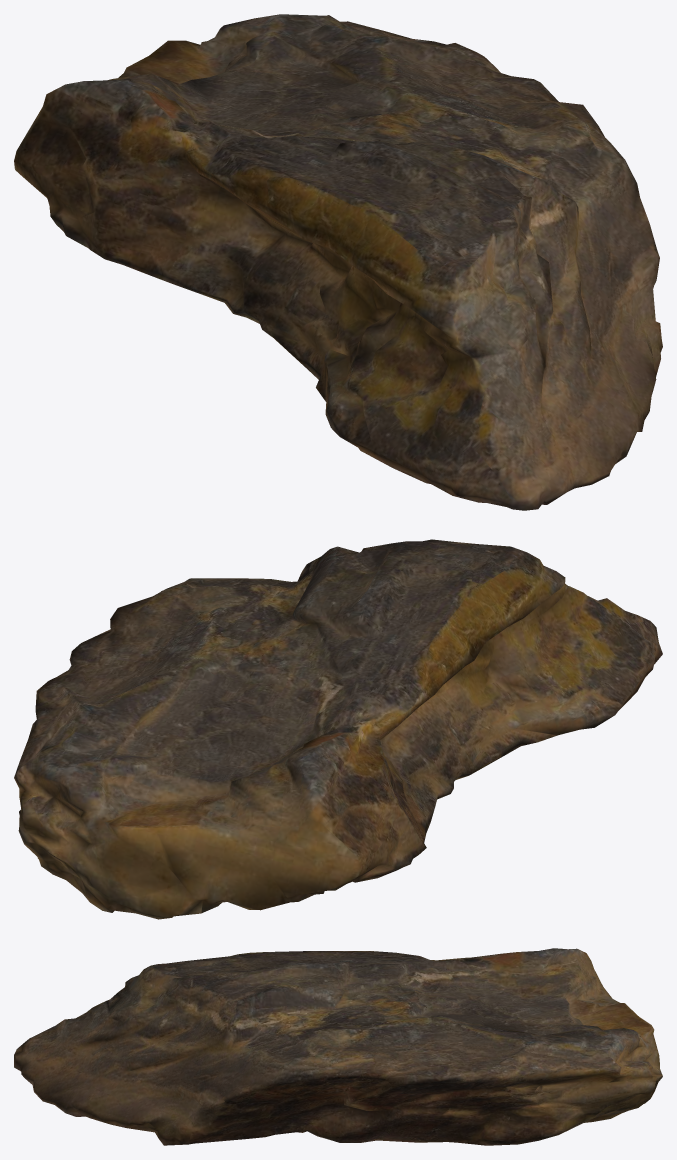
File: rock_09.glb
3 renders of one model, top to bottom at view 1: azimuth 30°, elevation 25°; view 2: azimuth 150°, elevation 25°; view 3: azimuth 270°, elevation 25°, orthographic. The views are drawn at different scales.
Visible parts, largest first — view 1: rock_09_LOD0; view 2: rock_09_LOD0; view 3: rock_09_LOD0.
Part boxes in pixels (left/top/right/bottom): rock_09_LOD0: left=14, top=14, right=662, bottom=510; rock_09_LOD0: left=14, top=539, right=662, bottom=919; rock_09_LOD0: left=14, top=948, right=662, bottom=1145.
Bounding box in the file's own units: 0.0739 × 0.0328 × 0.1446.
1 material, 1 textured.
